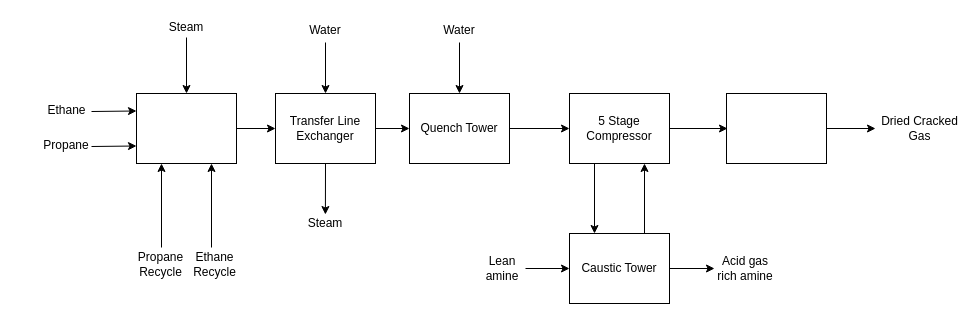
Some shapes in this 980 by 321 pixel diagram are drawn without their labels. Each missing label, with the centre of its shape:
"Dryer" goes at (776,128).
"Steam Cracker" goes at (186,128).
